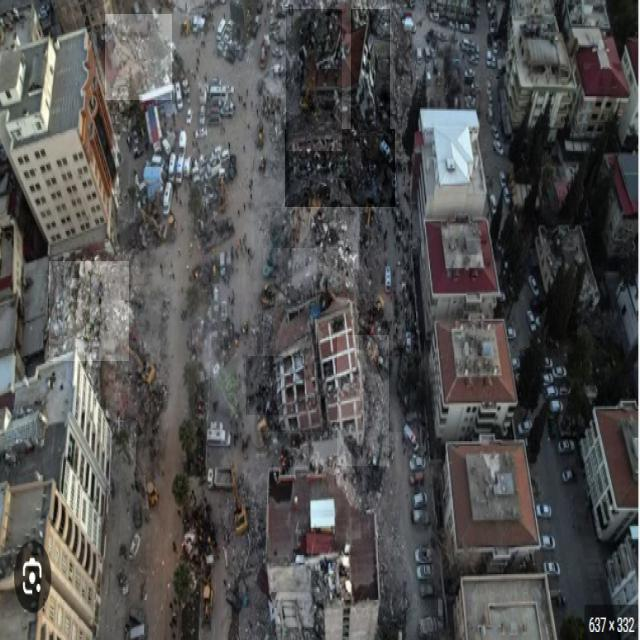Rubble: (255, 313, 410, 432), (270, 208, 397, 294), (295, 17, 385, 127), (285, 129, 395, 207), (49, 262, 129, 362), (286, 9, 342, 151), (264, 248, 318, 394), (337, 335, 389, 466), (105, 14, 172, 100), (351, 9, 390, 136), (246, 356, 305, 415)
